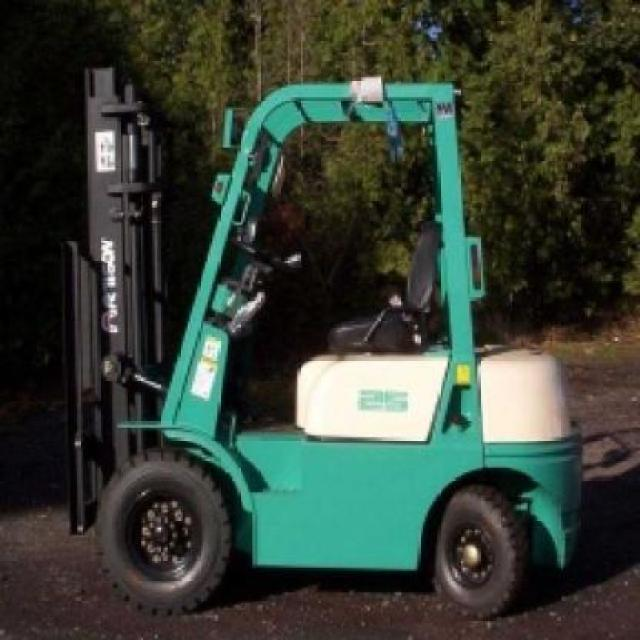forklift: (65, 63, 584, 623)
